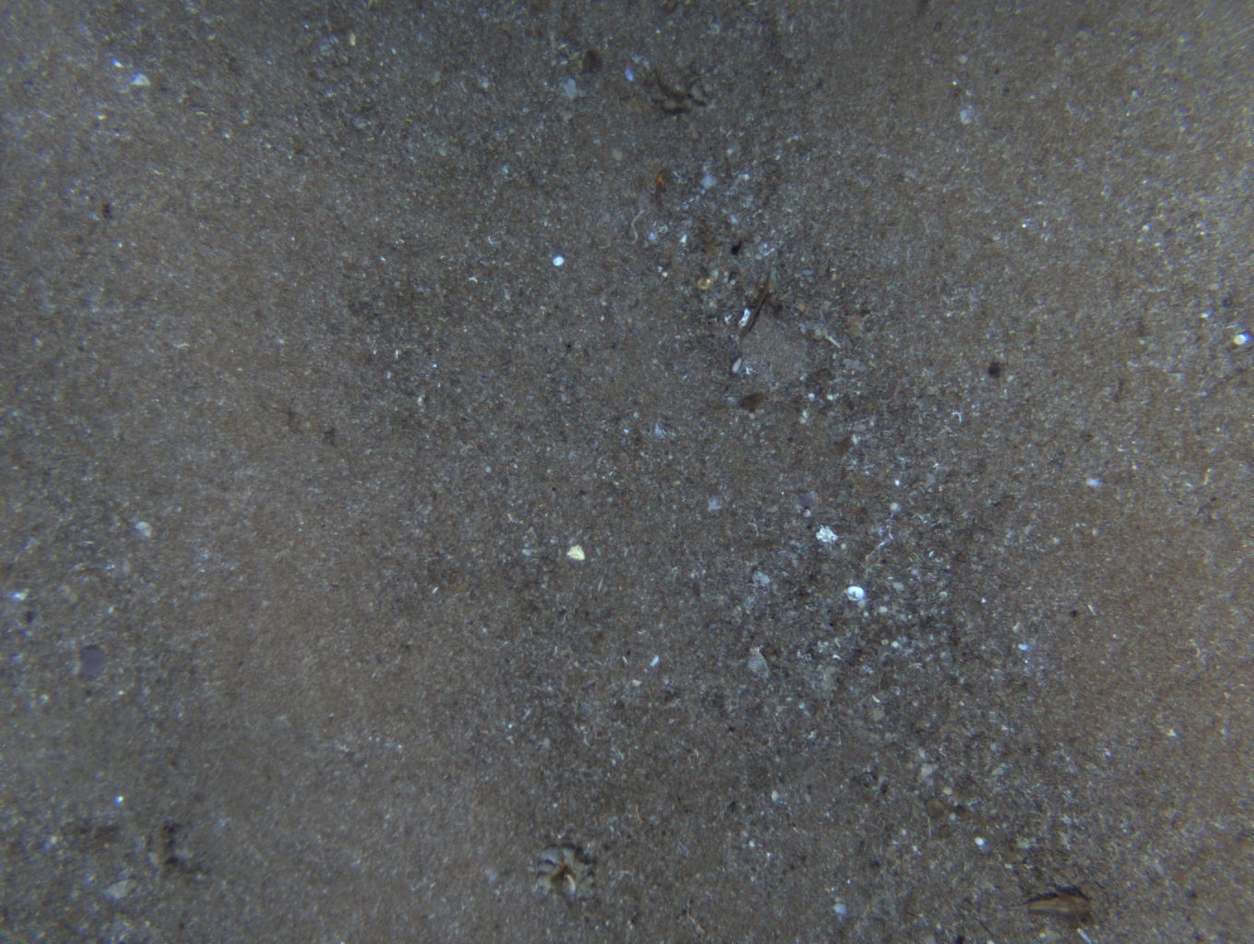Brachionichthyidae: (1007, 887, 1094, 922)
